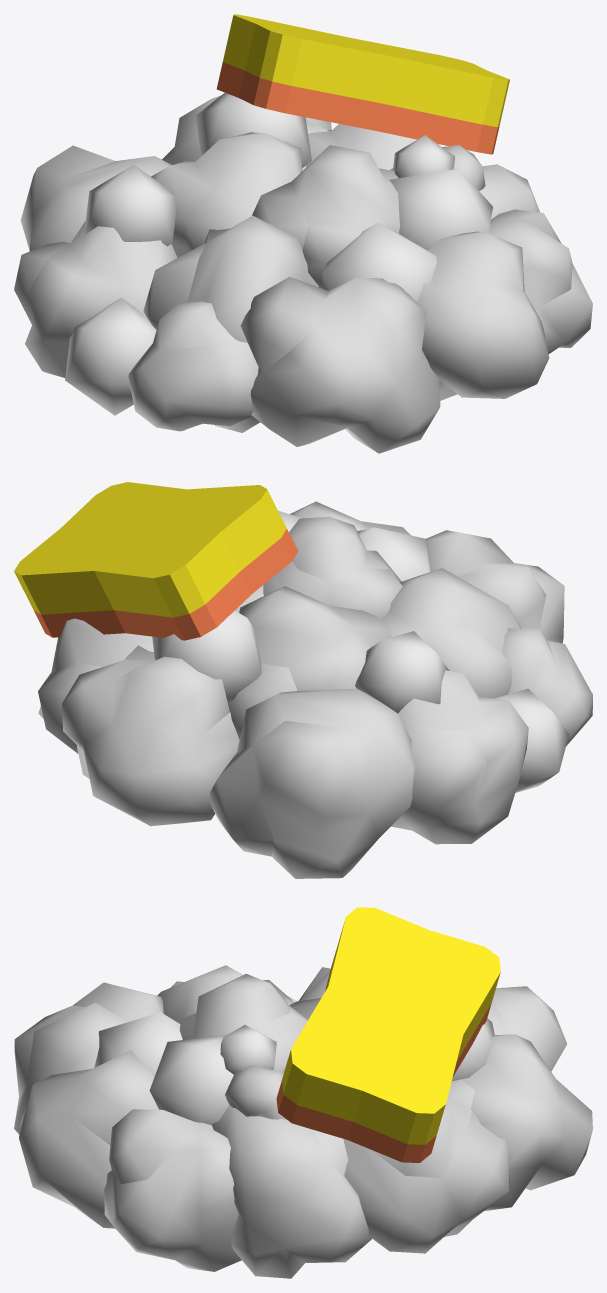
Rendered from Clean1.fbx.
The picture shows the model from 3 angles, top to bottom: view 1: azimuth 30°, elevation 25°; view 2: azimuth 150°, elevation 25°; view 3: azimuth 270°, elevation 25°; orthographic projection. The views are drawn at different scales.
Parts seen in each view (by area): view 1: BubbleB.011, Sponge_geo, BubbleB.016, BubbleB.008, BubbleB.005, BubbleB.002, BubbleB.001, BubbleB.012, BubbleB.007, BubbleA.003, BubbleB.013, BubbleA.016 (+8 smaller); view 2: Sponge_geo, BubbleB.013, BubbleB.014, BubbleB.008, BubbleB.012, BubbleB.001, BubbleB.002, BubbleB.011, BubbleB.005, BubbleB.015, BubbleA.013, BubbleA.009 (+3 smaller); view 3: Sponge_geo, BubbleB.017, BubbleB.007, BubbleB.015, BubbleB.016, BubbleB.014, BubbleB.011, BubbleB.002, BubbleA.016, BubbleB.013, BubbleA.004, BubbleB.010 (+4 smaller).
Boxes of the visible parts, x1,y1,x2,y2 form: BubbleB.011: [240, 277, 440, 453]; Sponge_geo: [216, 14, 509, 154]; BubbleB.016: [417, 231, 549, 400]; BubbleB.008: [14, 221, 177, 377]; BubbleB.005: [128, 301, 260, 432]; BubbleB.002: [252, 145, 399, 288]; BubbleB.001: [143, 215, 318, 342]; BubbleB.012: [151, 132, 302, 257]; BubbleB.007: [488, 209, 592, 353]; BubbleA.003: [65, 297, 156, 415]; BubbleB.013: [20, 145, 171, 251]; BubbleA.016: [389, 168, 492, 250]; Sponge_geo: [14, 482, 298, 640]; BubbleB.013: [210, 689, 415, 878]; BubbleB.014: [62, 645, 239, 826]; BubbleB.008: [391, 670, 528, 844]; BubbleB.012: [228, 586, 391, 739]; BubbleB.001: [381, 568, 521, 698]; BubbleB.002: [263, 516, 402, 620]; BubbleB.011: [424, 530, 564, 643]; BubbleB.005: [502, 628, 592, 746]; BubbleB.015: [38, 618, 153, 753]; BubbleA.013: [355, 631, 449, 713]; BubbleA.009: [152, 610, 261, 703]; Sponge_geo: [276, 907, 500, 1162]; BubbleB.017: [212, 1105, 372, 1278]; BubbleB.007: [104, 1109, 241, 1271]; BubbleB.015: [343, 1097, 510, 1253]; BubbleB.016: [19, 1050, 158, 1228]; BubbleB.014: [448, 1034, 592, 1211]; BubbleB.011: [14, 982, 163, 1134]; BubbleB.002: [177, 974, 307, 1071]; BubbleA.016: [149, 1034, 233, 1125]; BubbleB.013: [487, 986, 566, 1071]; BubbleA.004: [94, 1012, 182, 1076]; BubbleB.010: [225, 1065, 286, 1119].
Size of the model in its own units: 1.57 by 1.7 by 0.9796.
